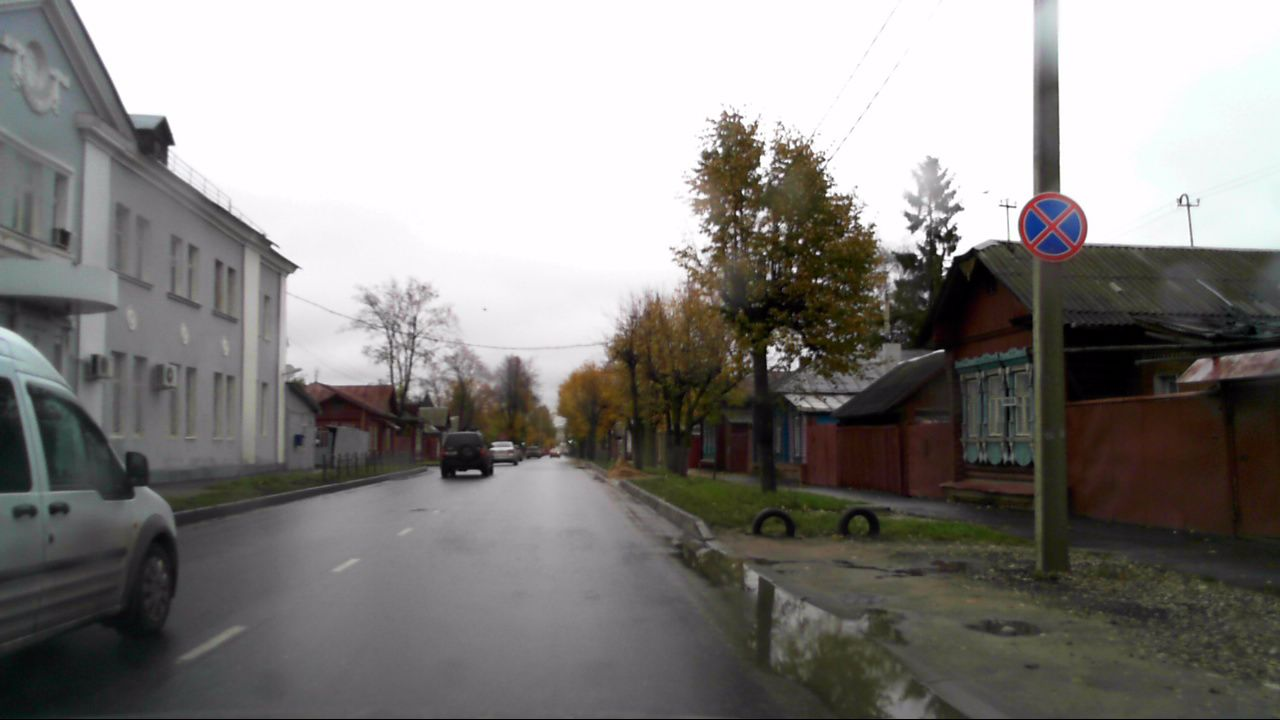No Parking: (1019, 192, 1087, 262)
